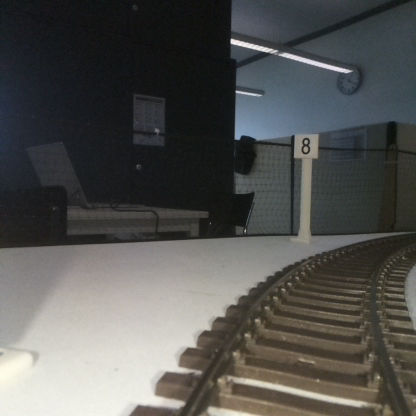white-info-8: (294, 134, 318, 240)
